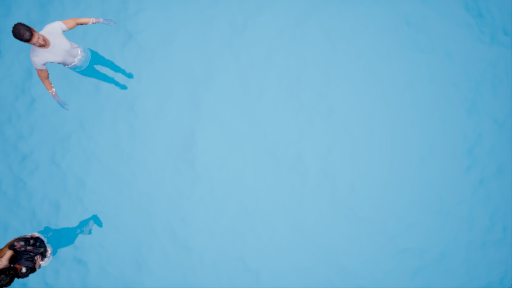person: (6, 14, 151, 116), (1, 213, 117, 282)
